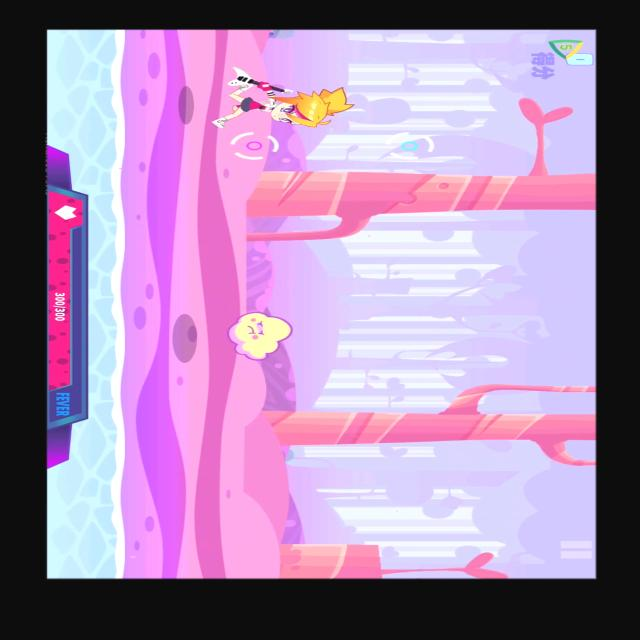Ground Monster - yellow Cloud: (205, 302, 314, 372)
